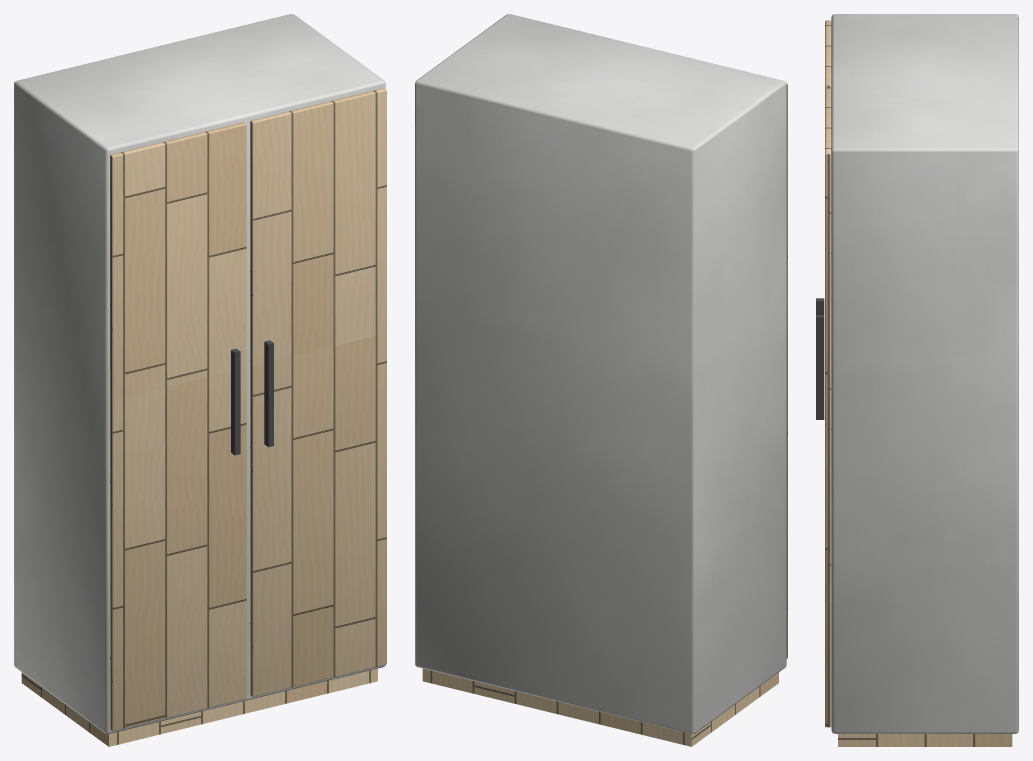
The picture shows the model from 3 angles, left to right: view 1: azimuth 30°, elevation 25°; view 2: azimuth 150°, elevation 25°; view 3: azimuth 270°, elevation 25°; orthographic projection.
Visible parts, largest first — view 1: Decor_wardrobe; view 2: Decor_wardrobe; view 3: Decor_wardrobe.
Boxes of the visible parts, x1,y1,x2,y2 form: Decor_wardrobe: (14,14,386,746); Decor_wardrobe: (415,14,787,746); Decor_wardrobe: (816,14,1018,746).
Bounding box in the file's own units: 1 × 2.05 × 0.6275.
Materials: 3 (2 with a texture image).
